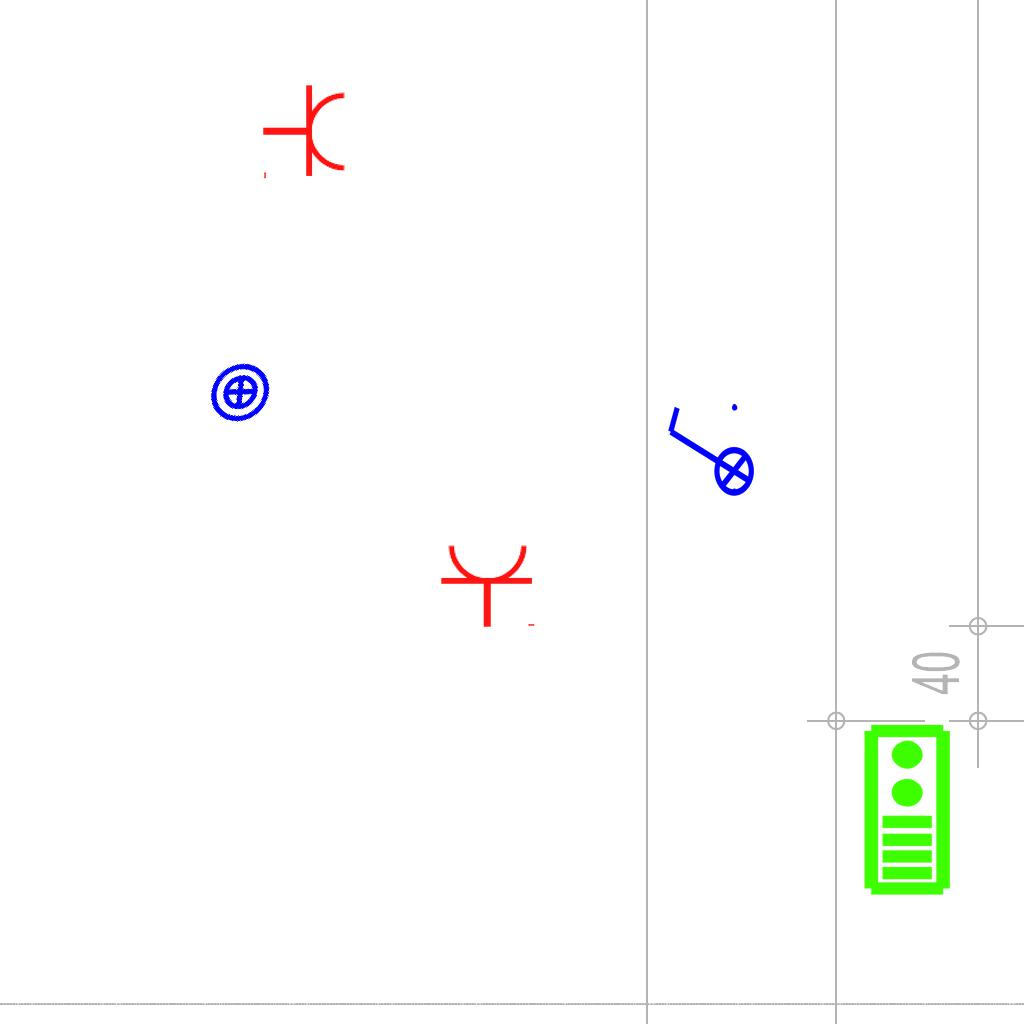Ausschalter_beleuchtet: (660, 398, 756, 510)
Gegensprechanlage_mit_Video: (858, 721, 953, 897)
Schukosteckdose_einfach: (439, 542, 539, 629), (261, 83, 348, 183)
Taster_beleuchtet: (193, 345, 287, 439)
